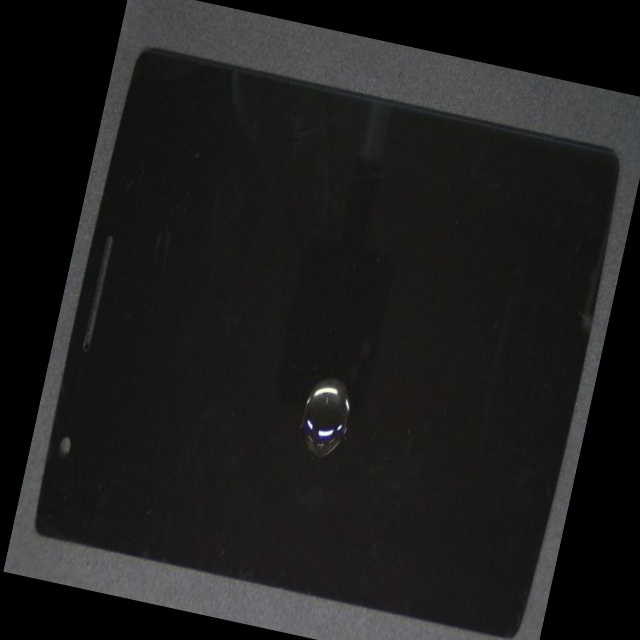oil: (174, 182, 502, 585)
